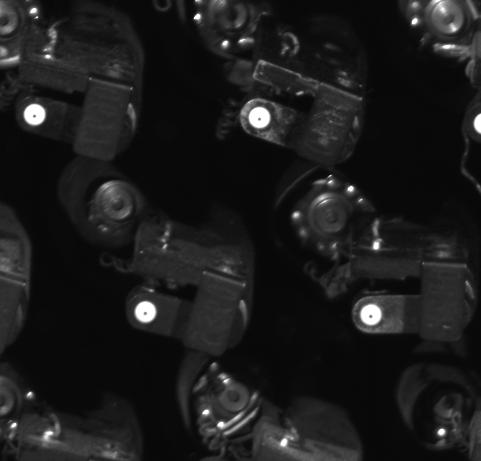fiber: (357, 298, 387, 332), (21, 99, 51, 131), (244, 104, 277, 133), (129, 298, 163, 326)
